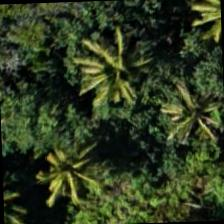Kelapa_Sawit: (56, 15, 150, 108), (8, 78, 101, 172), (14, 118, 108, 210), (151, 65, 223, 159)
